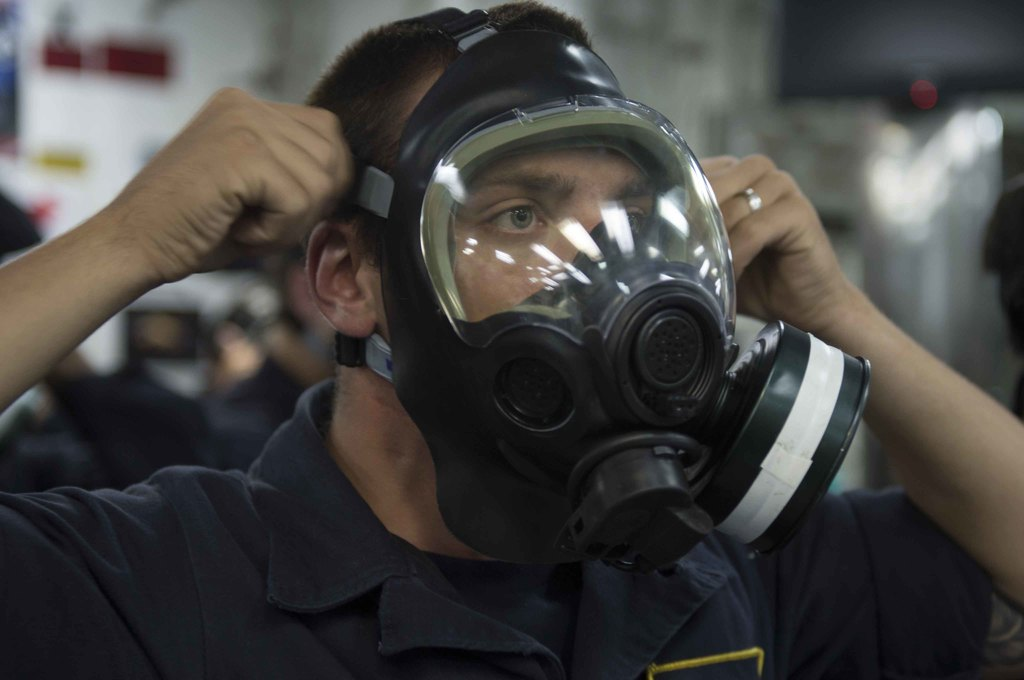Human_hand: (107, 82, 358, 285), (698, 153, 862, 333)
